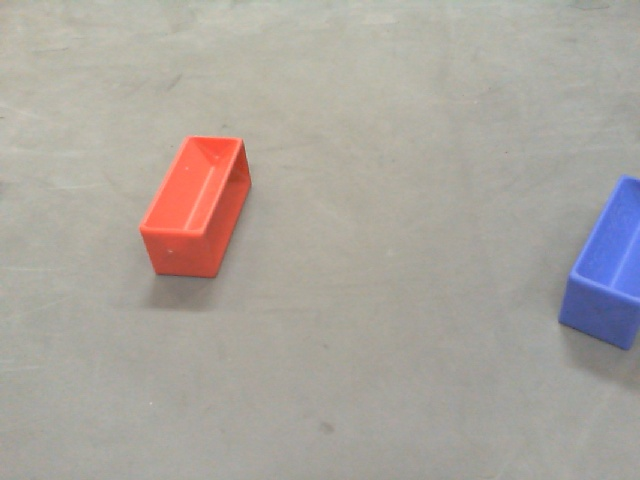BlueSample: (556, 176, 640, 351)
RedSample: (135, 134, 253, 282)
